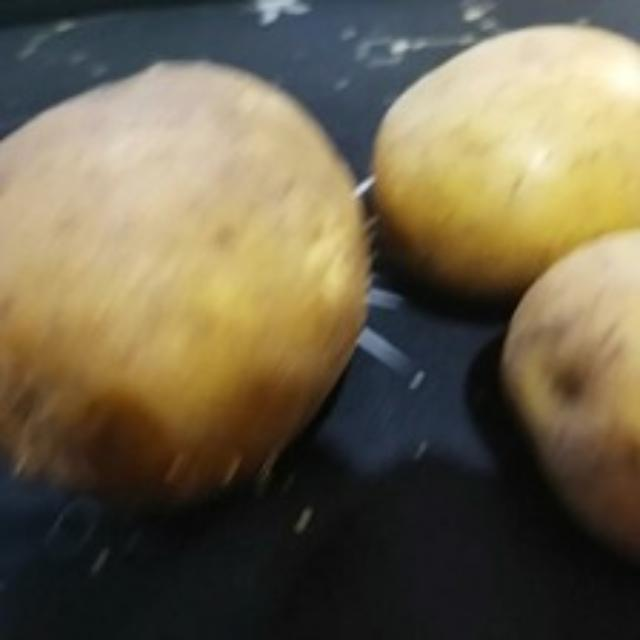Damaged potato: (0, 50, 378, 516), (497, 228, 639, 580)
Potato: (372, 21, 640, 302)
